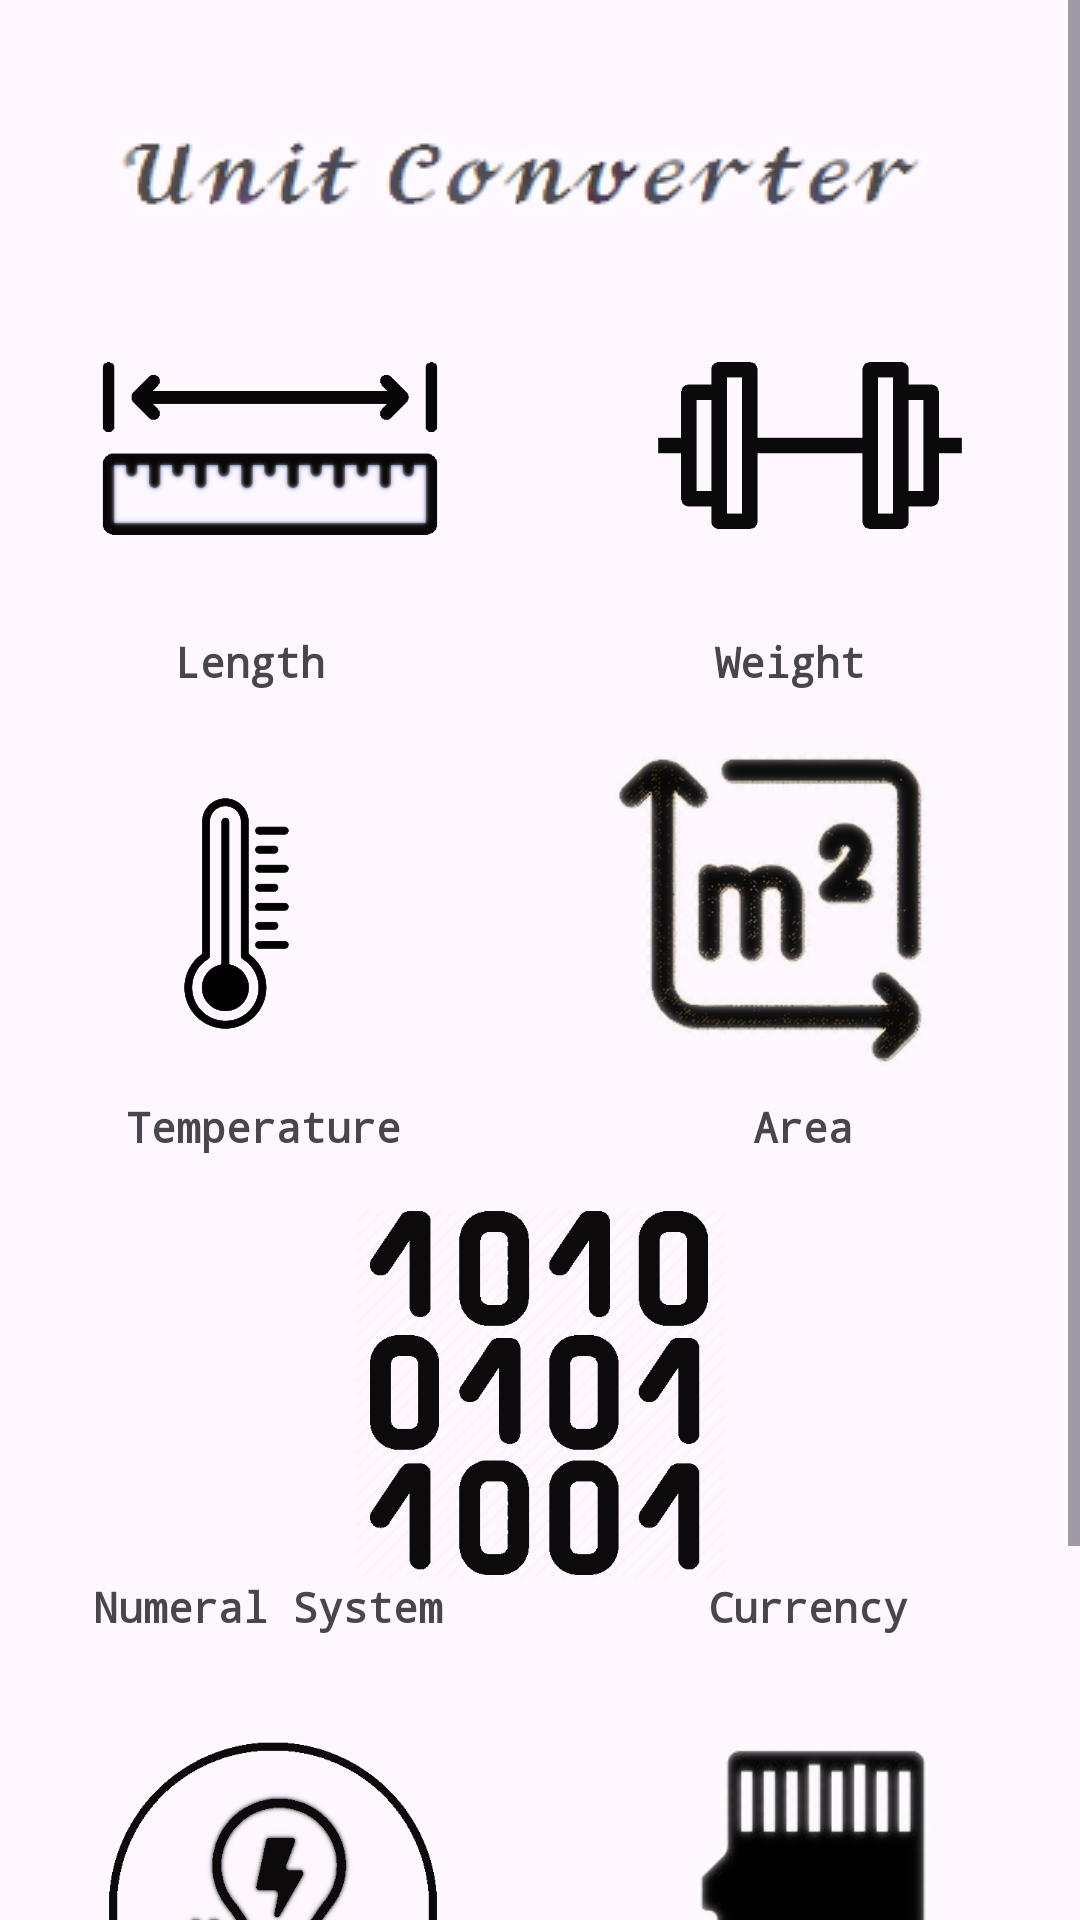

Where to tap for icons on this 1080 x 1920 app screen, as (x=x, y=y):
tempblack: (x=236, y=913)
